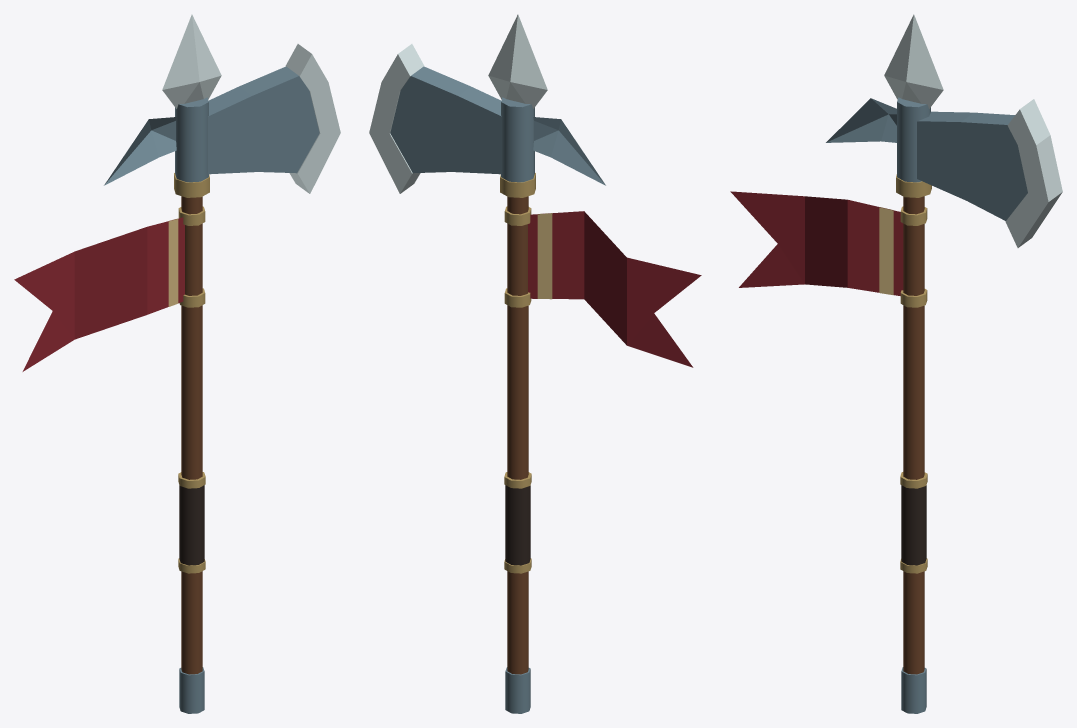
The model's file is halberd.glb.
The picture shows the model from 3 angles, left to right: view 1: azimuth 30°, elevation 25°; view 2: azimuth 150°, elevation 25°; view 3: azimuth 330°, elevation 25°; orthographic projection.
Parts seen in each view (by area): view 1: Pennant, AxeHead, Shaft, AxeEdge, SpearTip, HeadSocket, RearSpike, Grip, ButtCap, PennantStripe, HeadCollar; view 2: Pennant, AxeHead, Shaft, AxeEdge, SpearTip, HeadSocket, RearSpike, Grip, PennantStripe, ButtCap, HeadCollar; view 3: Pennant, AxeHead, Shaft, AxeEdge, SpearTip, RearSpike, Grip, HeadSocket, PennantStripe, ButtCap, HeadCollar.
Part boxes in pixels (x1,y1,x2,y2): Pennant: (14, 217, 184, 371); AxeHead: (208, 66, 319, 174); Shaft: (181, 196, 202, 674); AxeEdge: (285, 44, 340, 193); SpearTip: (162, 14, 221, 108); HeadSocket: (175, 97, 208, 182); RearSpike: (104, 117, 176, 185); Grip: (179, 485, 204, 565); ButtCap: (179, 667, 204, 713); PennantStripe: (168, 218, 178, 306); HeadCollar: (174, 173, 209, 197); Pennant: (528, 211, 701, 367); AxeHead: (390, 66, 501, 174); Shaft: (507, 196, 528, 674); AxeEdge: (369, 44, 424, 193); SpearTip: (488, 14, 547, 108); HeadSocket: (501, 97, 534, 182); RearSpike: (533, 117, 605, 185); Grip: (505, 485, 530, 565); PennantStripe: (537, 213, 552, 299); ButtCap: (505, 667, 530, 713); HeadCollar: (500, 173, 535, 197); Pennant: (730, 191, 903, 295); AxeHead: (917, 111, 1027, 220); Shaft: (903, 196, 924, 674); AxeEdge: (1005, 99, 1062, 247); SpearTip: (884, 14, 943, 108); RearSpike: (826, 98, 896, 142); Grip: (901, 485, 926, 565); HeadSocket: (897, 97, 930, 182); PennantStripe: (879, 207, 893, 295); ButtCap: (901, 667, 926, 713); HeadCollar: (896, 174, 931, 197).
Bounding box in the file's own units: 1.57 × 3.23 × 0.169.
